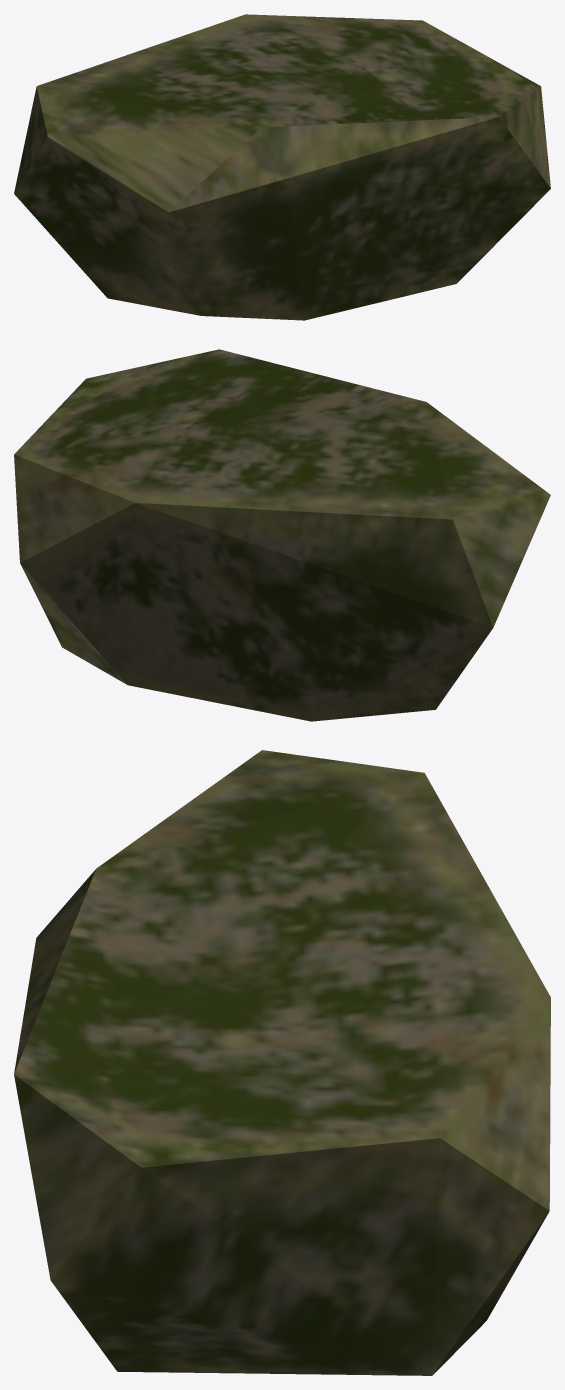
Rendered from mossy rocks8.fbx.
3 views of the same model, one above another, from view 1: azimuth 30°, elevation 25°; view 2: azimuth 150°, elevation 25°; view 3: azimuth 270°, elevation 25° (orthographic). The views are drawn at different scales.
Visible parts, largest first — view 1: Mossy_Rock17_M_Mossy_Rock_0; view 2: Mossy_Rock17_M_Mossy_Rock_0; view 3: Mossy_Rock17_M_Mossy_Rock_0.
Part boxes in pixels (x1,y1,x2,y2): Mossy_Rock17_M_Mossy_Rock_0: [14, 14, 550, 320]; Mossy_Rock17_M_Mossy_Rock_0: [14, 349, 550, 721]; Mossy_Rock17_M_Mossy_Rock_0: [14, 750, 550, 1375].
Size of the model in its own units: 76.47 by 34.76 by 47.81.
1 material, 1 textured.
